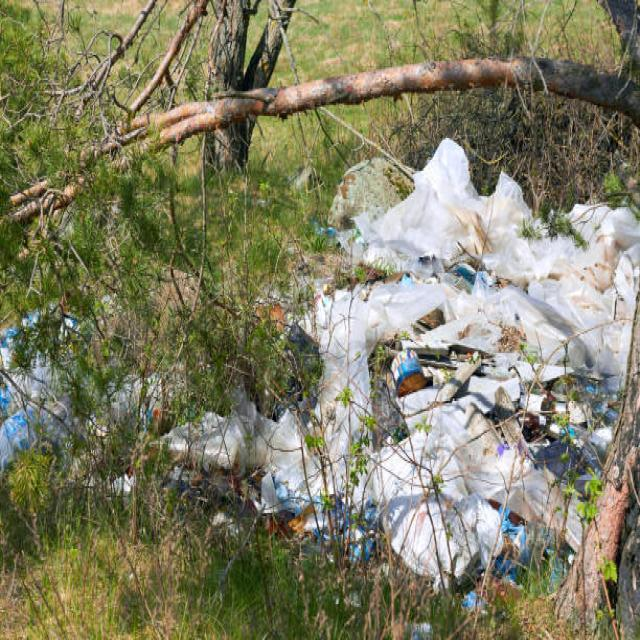plastic: (367, 212, 597, 510)
